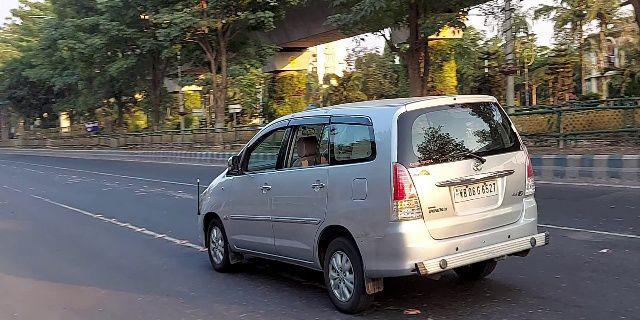Car: (192, 87, 550, 315)
